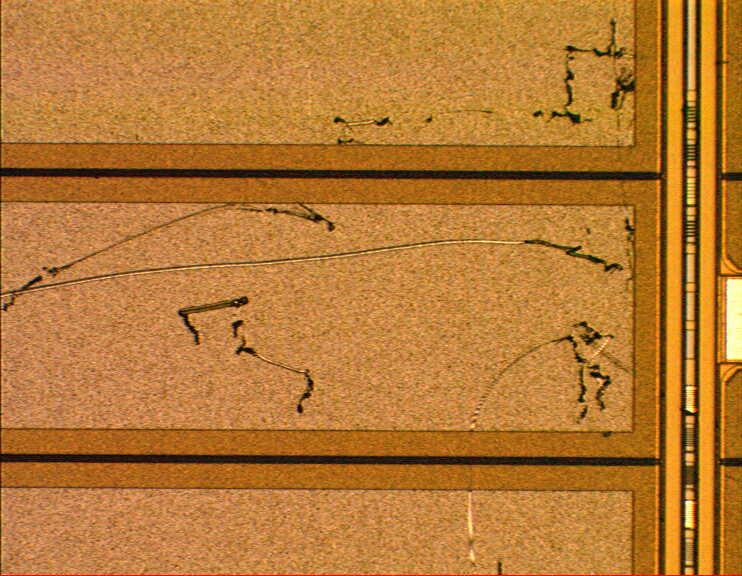SCRATCH: (1, 8, 742, 576)
